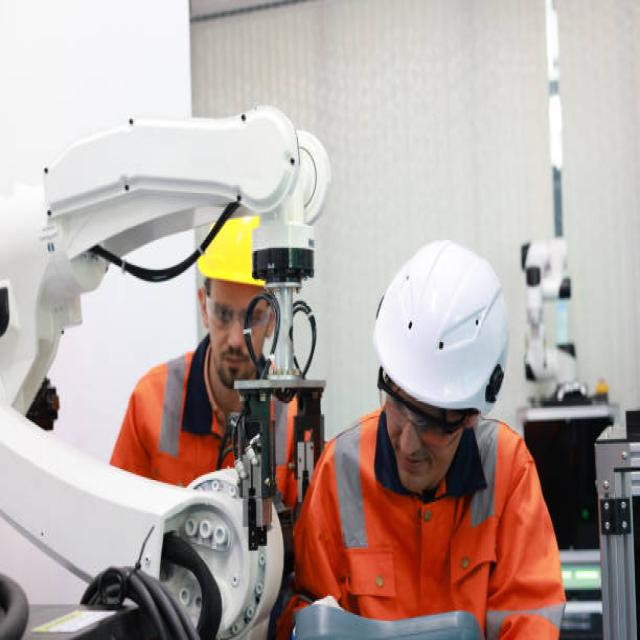Robotic-arm: (9, 107, 333, 640)
